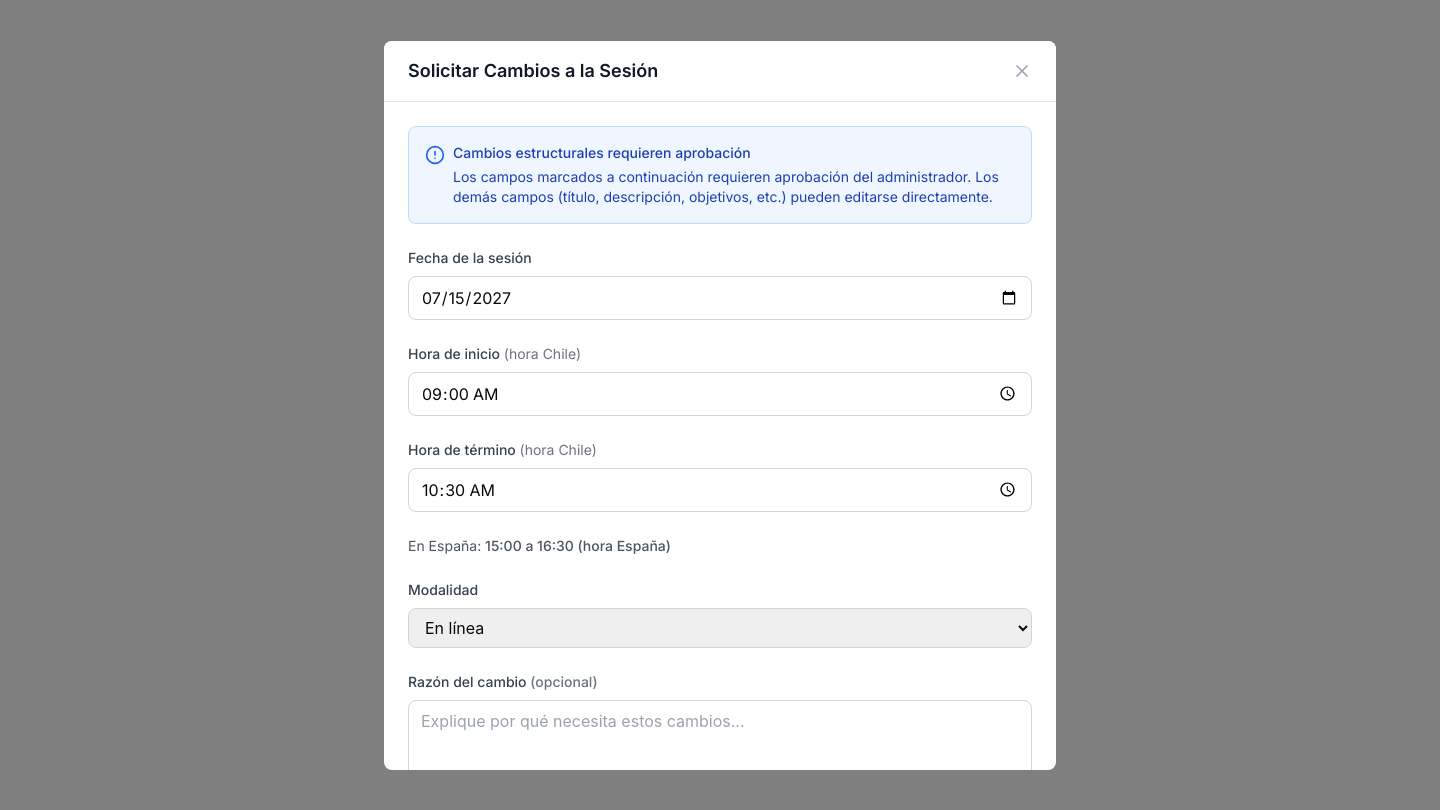
Test case: EditRequestModal — dual-zone times › re-derives when the proposed date crosses the DST divergence
Expected: the element with test id "edit-request-spain-preview" shows "15:00 a 16:30 (hora España)", [485,536,671,554]
// Same Chile times, opposite side of the year → a different Spain offset.
Type "2027-01-15" into the date field.
click(720, 298); type("2027-01-15")  # box [408,276,1032,320]
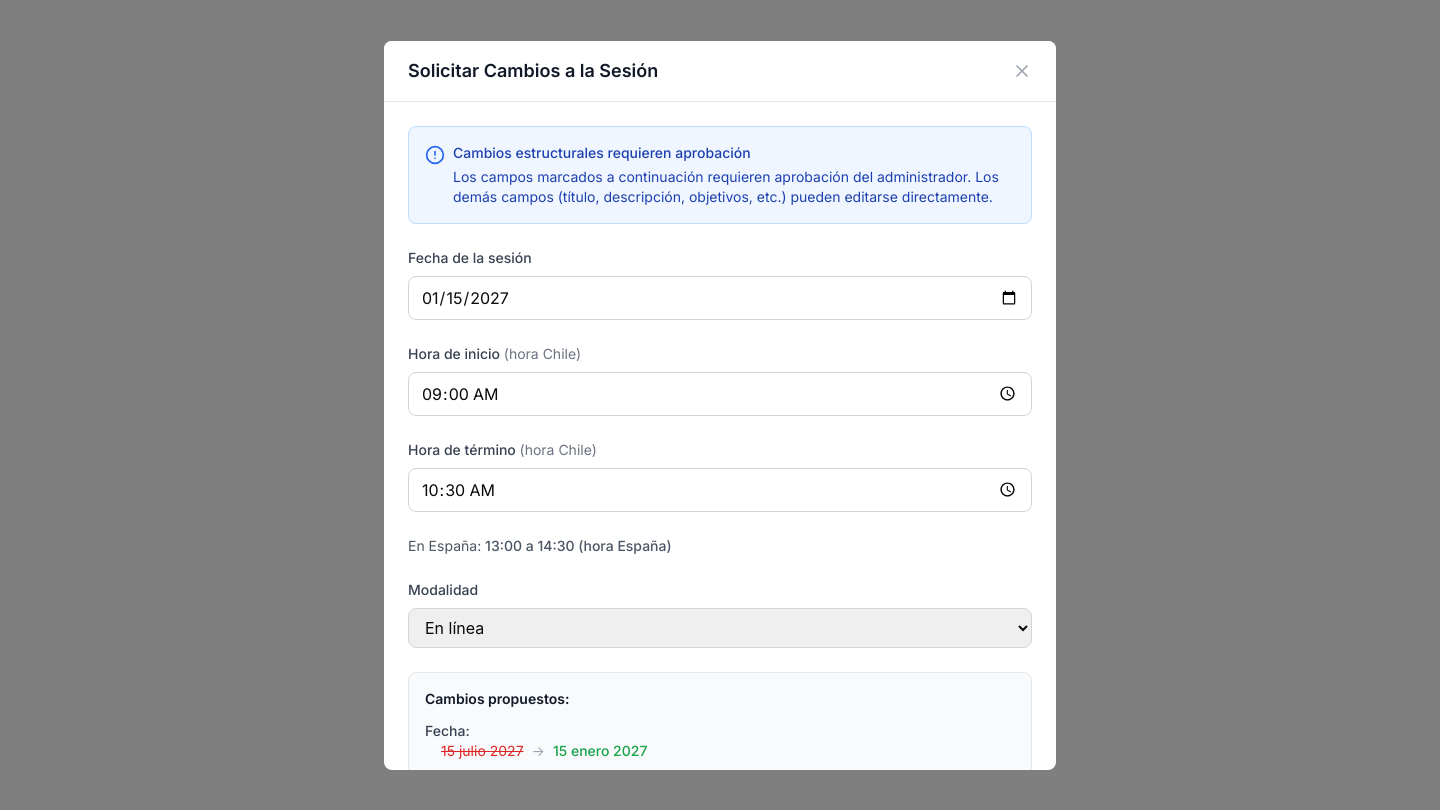
Expected: the element with test id "edit-request-spain-preview" shows "13:00 a 14:30 (hora España)", [485,536,672,554]
